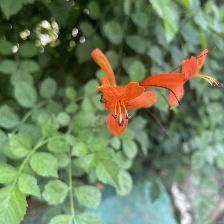honeysuckle: (87, 46, 156, 138)
